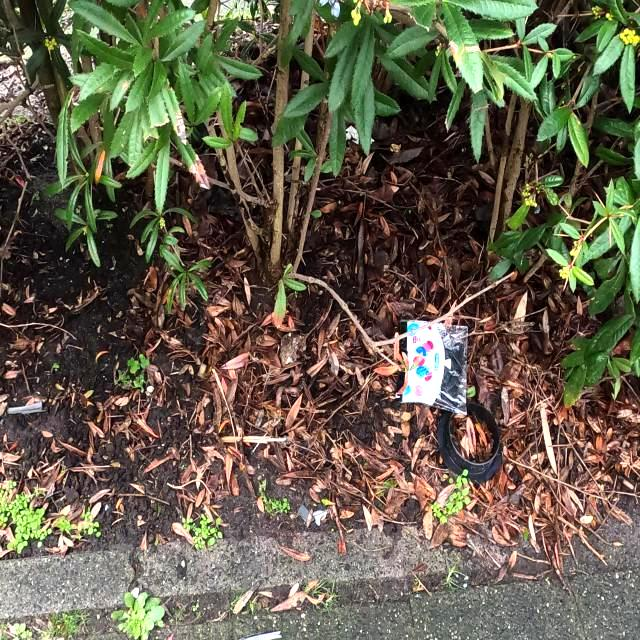Plastic: (401, 318, 469, 420)
